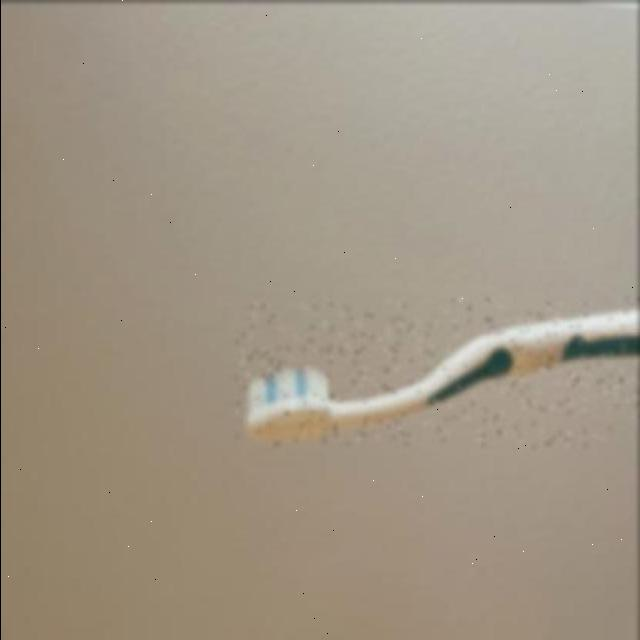toothbrush: (236, 298, 640, 447)
